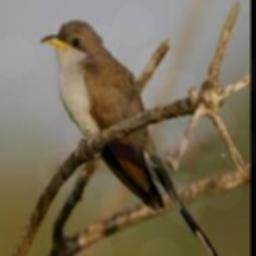Cuckoo: (40, 19, 220, 256)
